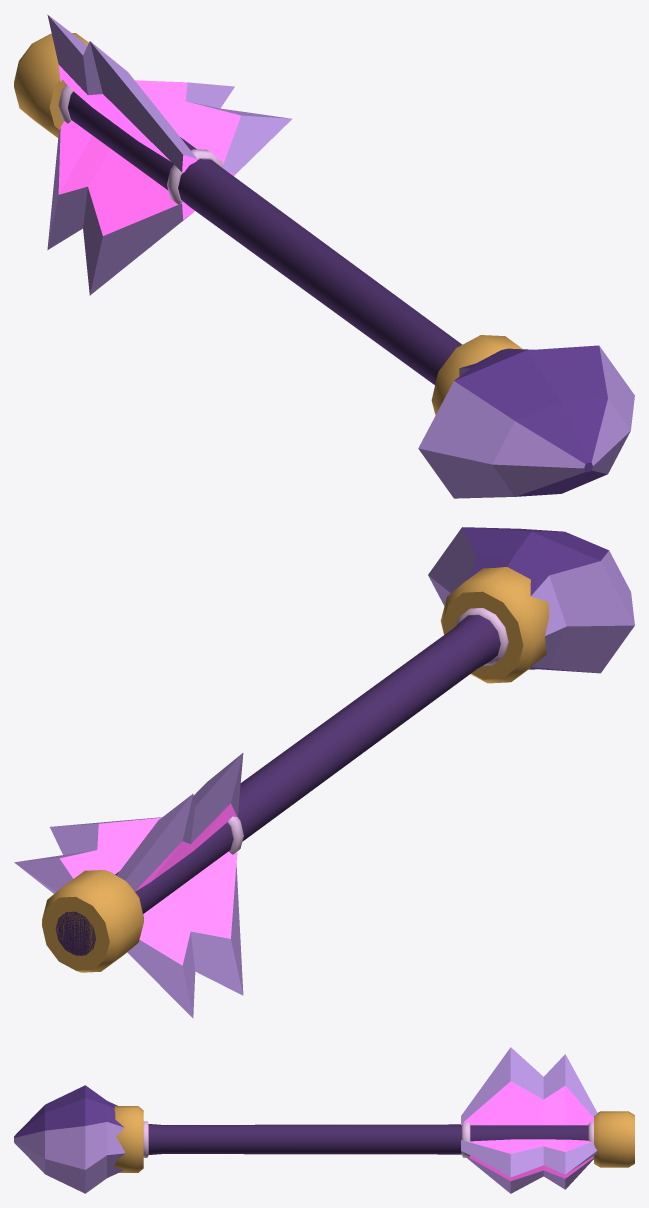
Rendered from arrow-epic.glb.
3 renders of one model, top to bottom at view 1: azimuth 30°, elevation 25°; view 2: azimuth 150°, elevation 25°; view 3: azimuth 270°, elevation 25°, orthographic. The views are drawn at different scales.
Visible parts, largest first — view 1: Body; view 2: Body; view 3: Body.
Boxes of the visible parts, box(x1,y1,x2,y2) form: Body: box(14, 14, 634, 498); Body: box(14, 527, 634, 1018); Body: box(14, 1047, 634, 1193).
Size of the model in its own units: 0.119 by 0.119 by 0.4559.
